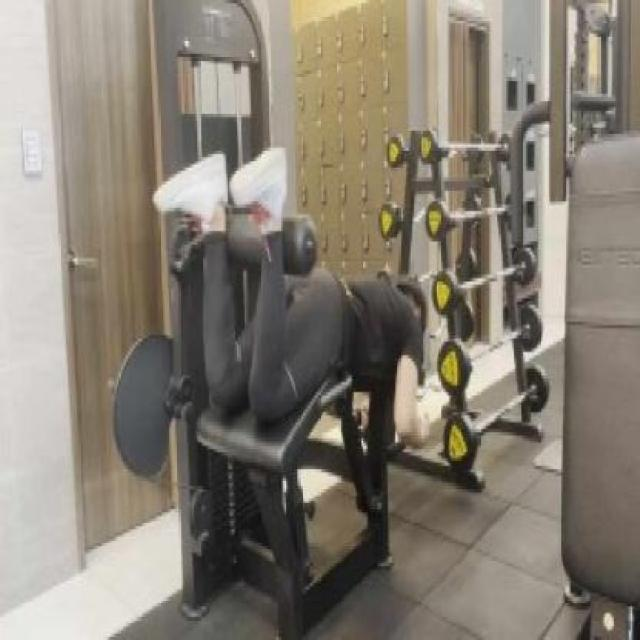reg curl machine: (112, 0, 434, 640)
